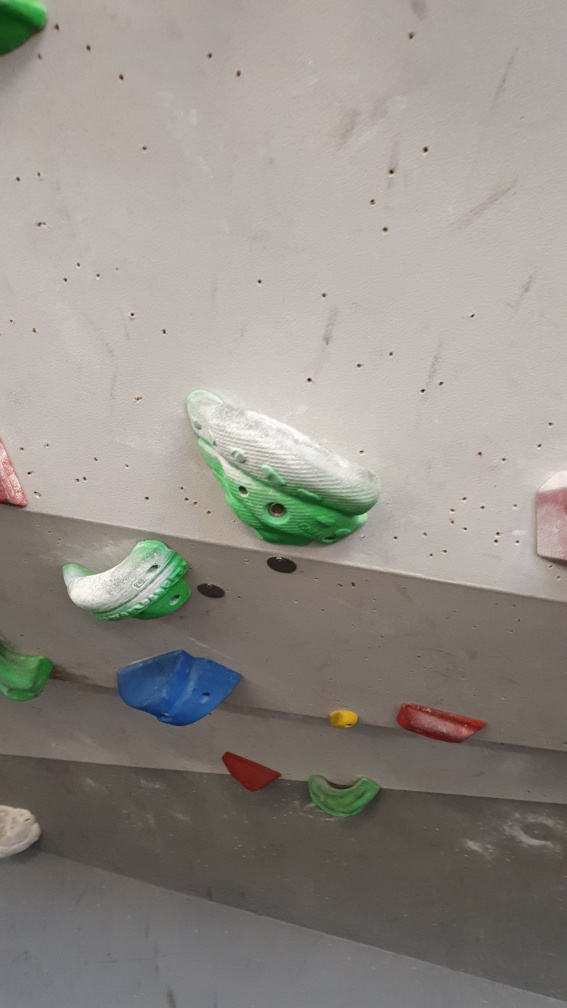Crimp: (391, 699, 499, 749)
Hand Start: (194, 574, 236, 607), (263, 548, 300, 579)
Jug: (181, 382, 380, 554), (53, 541, 197, 621), (1, 637, 60, 709), (305, 766, 385, 819)
Pinch: (112, 646, 247, 731)
